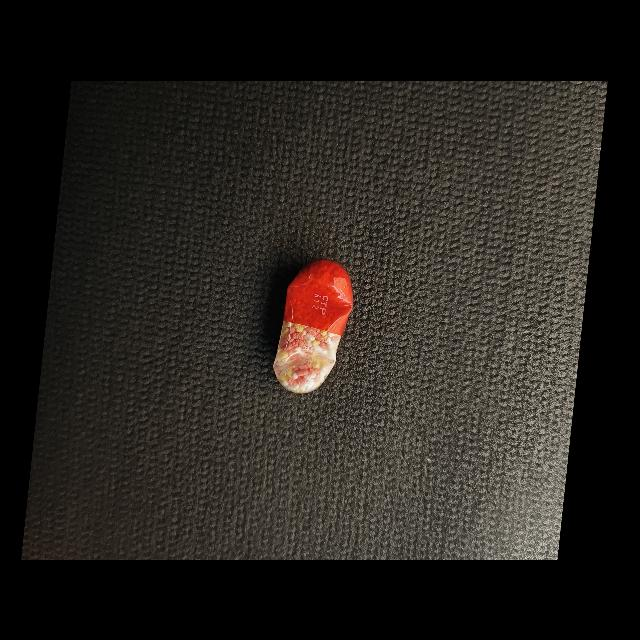Defective Capsule: (273, 258, 353, 393)
